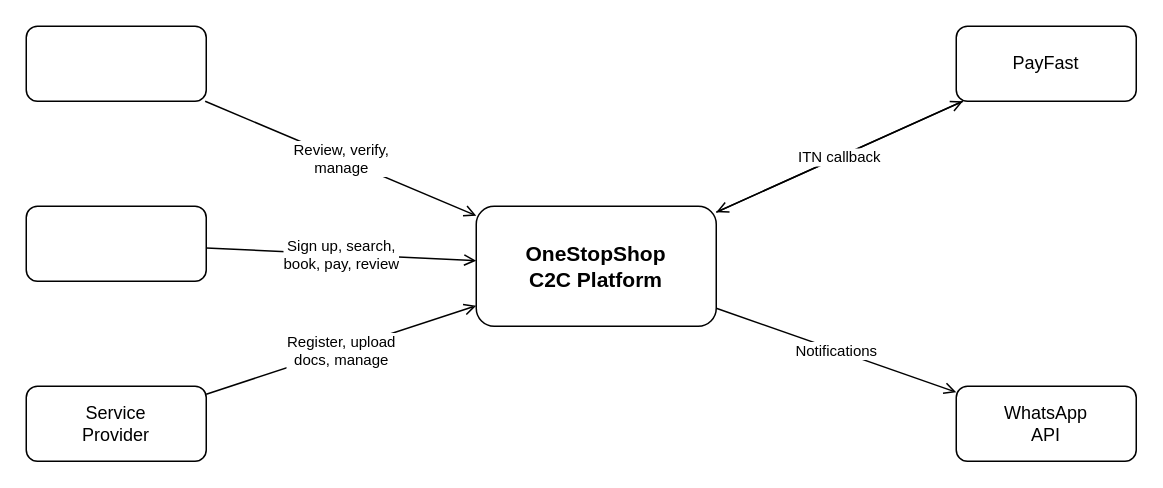
Image size: 1163x488. Some labels were removed from this diagram. The shapes that lost their labels are listed below. From the top down, each one's box as (x1, y1, x2, y2) in pixels, then its label:
(25, 25, 206, 101): Administrator
(25, 205, 206, 281): Customer
